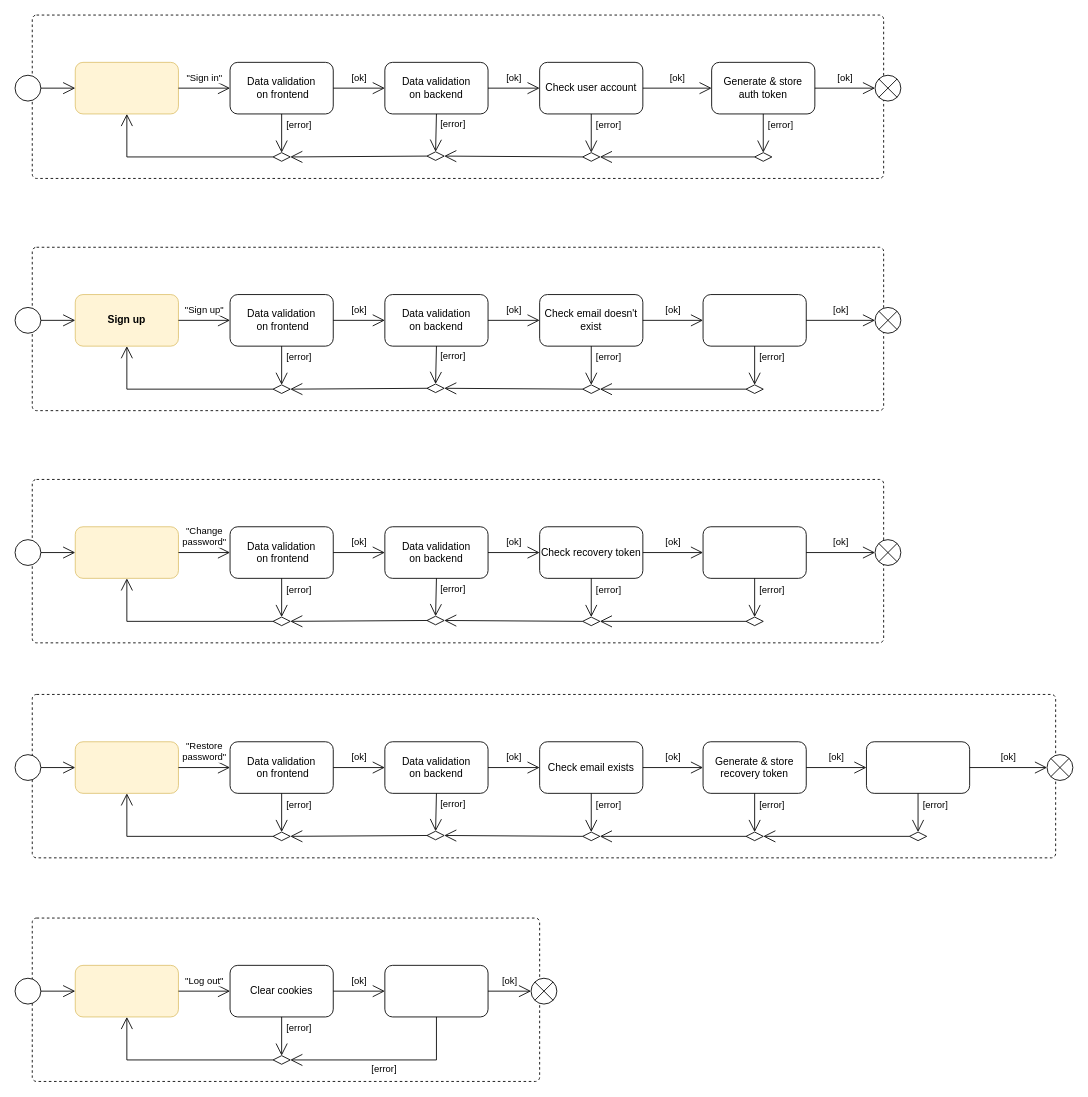
The diagram is 1088 pixels wide and 1097 high, and some of its shapes have lost their labels. The box of each missing label's shape, as (x1, y1, x2, y2) in pixels:
Change password: (74, 526, 178, 578)
Create new user: (702, 294, 806, 346)
Main page: (74, 964, 178, 1017)
Remove auth token: (384, 964, 488, 1017)
Remove recovery token & change password: (702, 526, 806, 578)
Restore password: (74, 741, 178, 793)
Send email with link to recover password: (866, 741, 970, 793)
Sign in: (74, 61, 178, 114)
